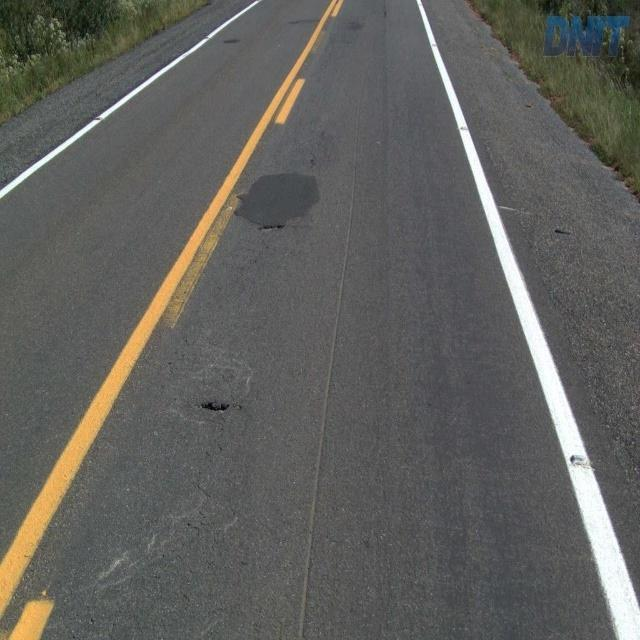pothole: (195, 394, 238, 418), (256, 221, 284, 235)
